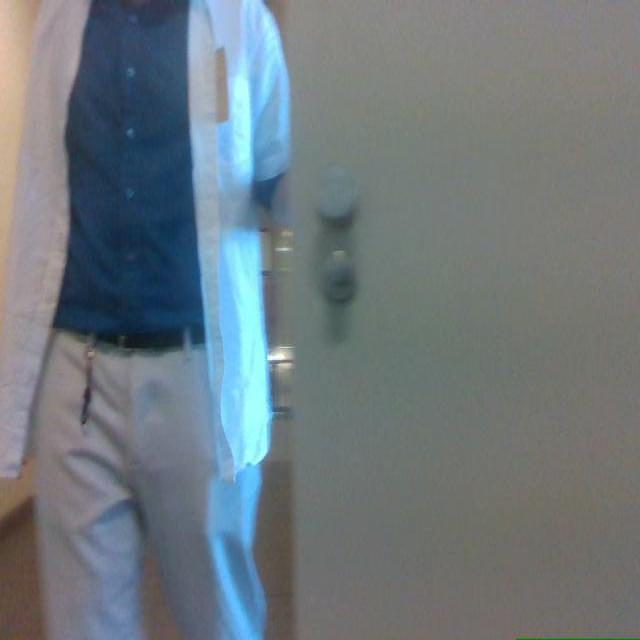humans: (0, 0, 290, 639)
objects: (287, 0, 639, 639)
